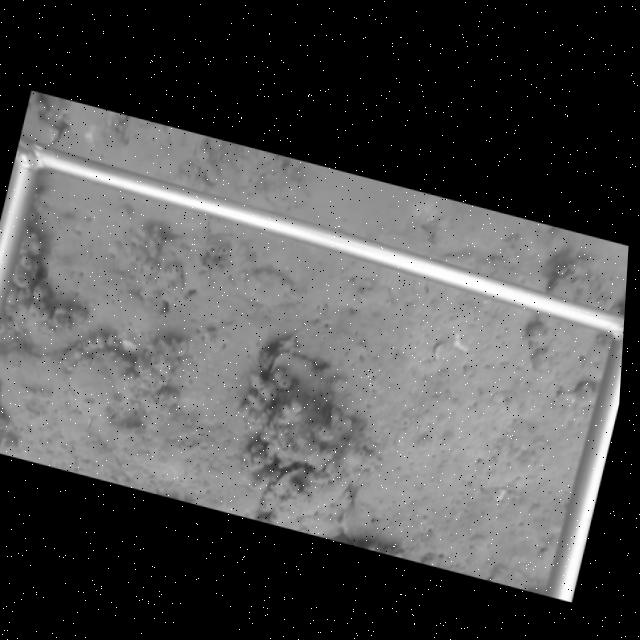Oyster-Indeterminate: (256, 467, 351, 521), (234, 266, 297, 308)
